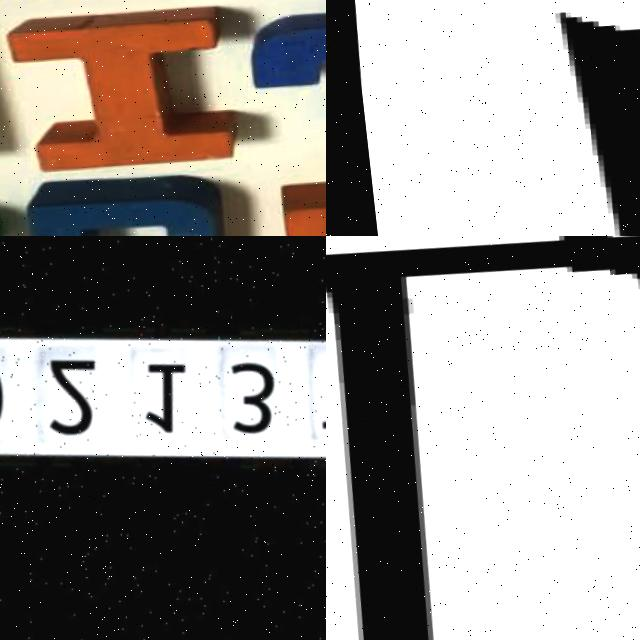0: (0, 342, 16, 460)
1: (104, 349, 195, 460)
2: (10, 342, 108, 462)
3: (192, 349, 285, 462)
5: (437, 0, 640, 236)
7: (286, 357, 326, 458)
D: (16, 170, 221, 236)
I: (3, 2, 230, 182)
J: (231, 10, 326, 179)
L: (326, 236, 640, 640)
